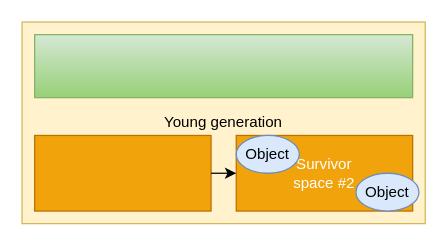
The diagram is 447 pixels wide and 246 high, and some of its shapes have lost their labels. The shapes that lost their labels are listed below. From the top down, each one's centre as x and y in pixels, then its label:
At pixel 223 65: "Eden".
At pixel 122 172: "Survivor space #1".
